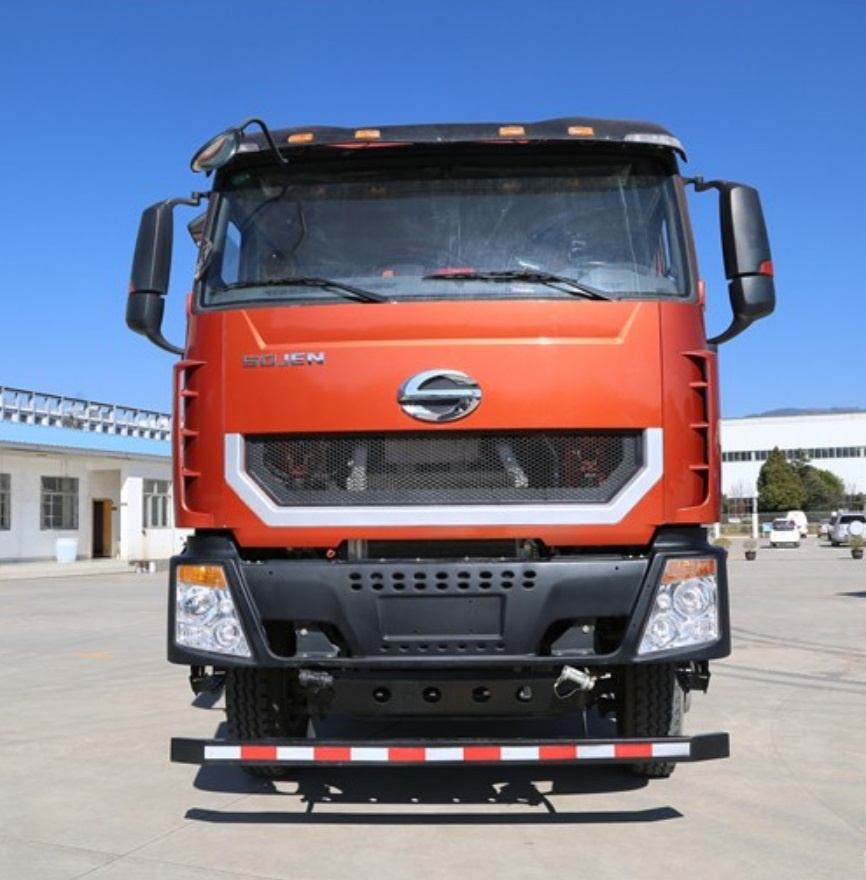heavy truck: (117, 82, 774, 791)
